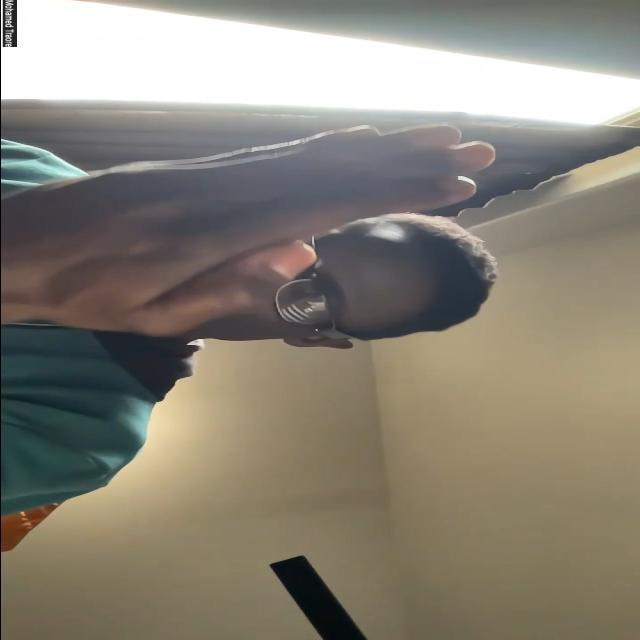Paper: (14, 122, 497, 336)
